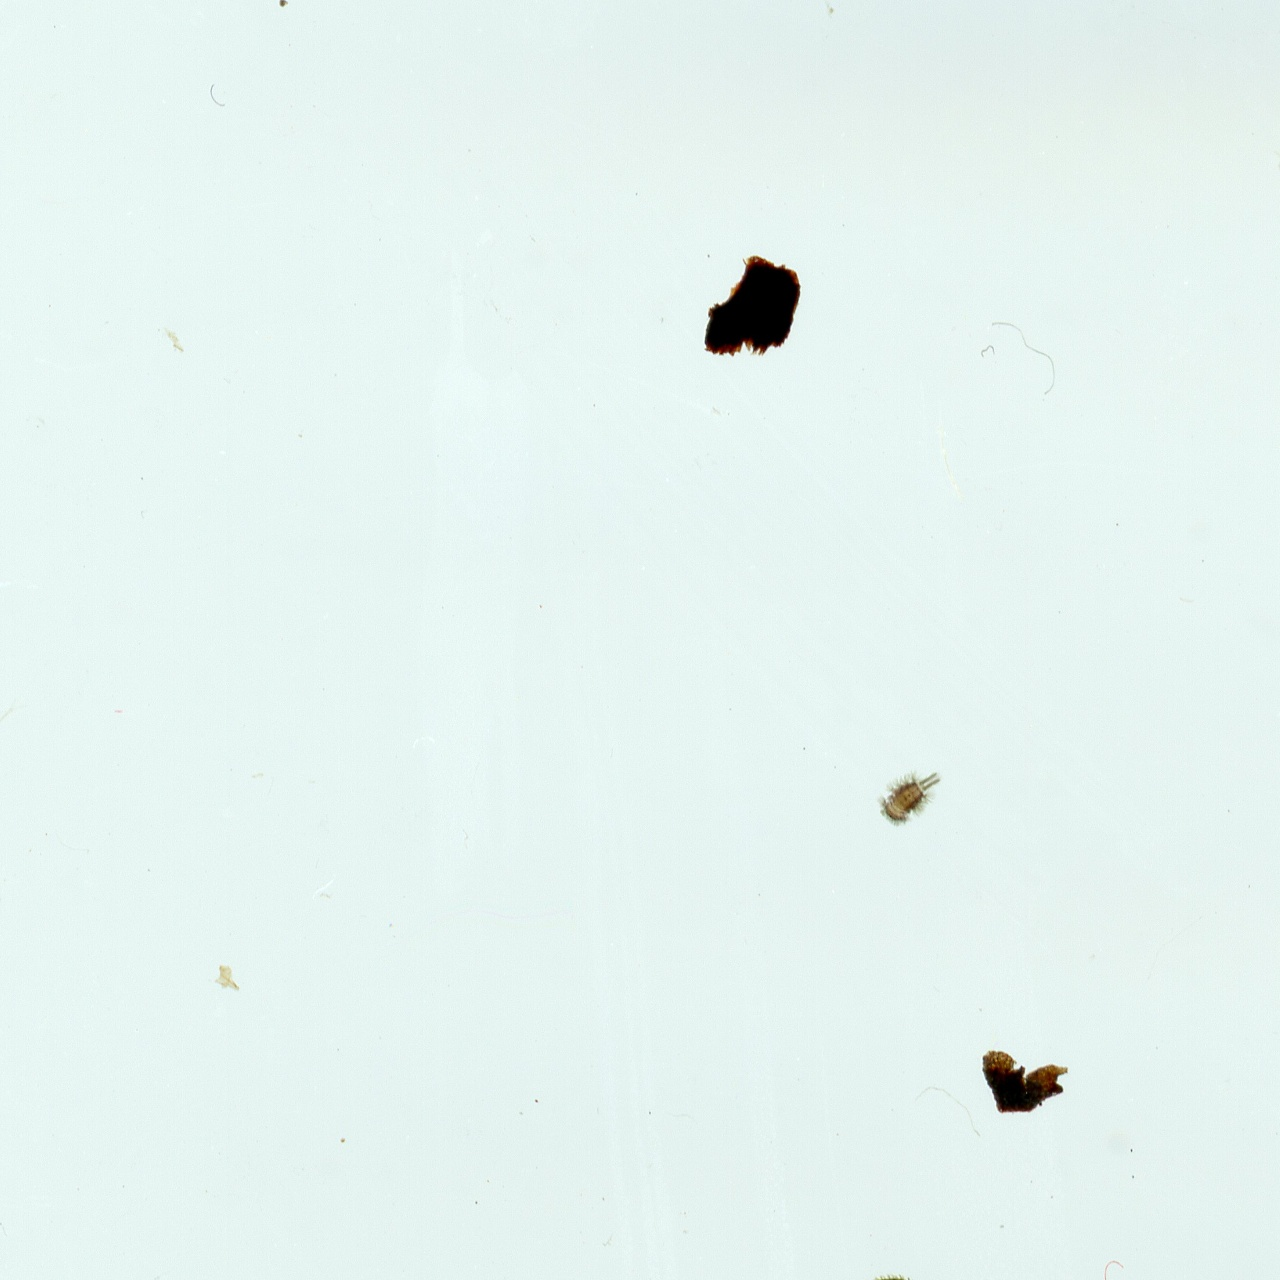arthropod: (755, 1243, 954, 1280), (873, 766, 945, 835)
